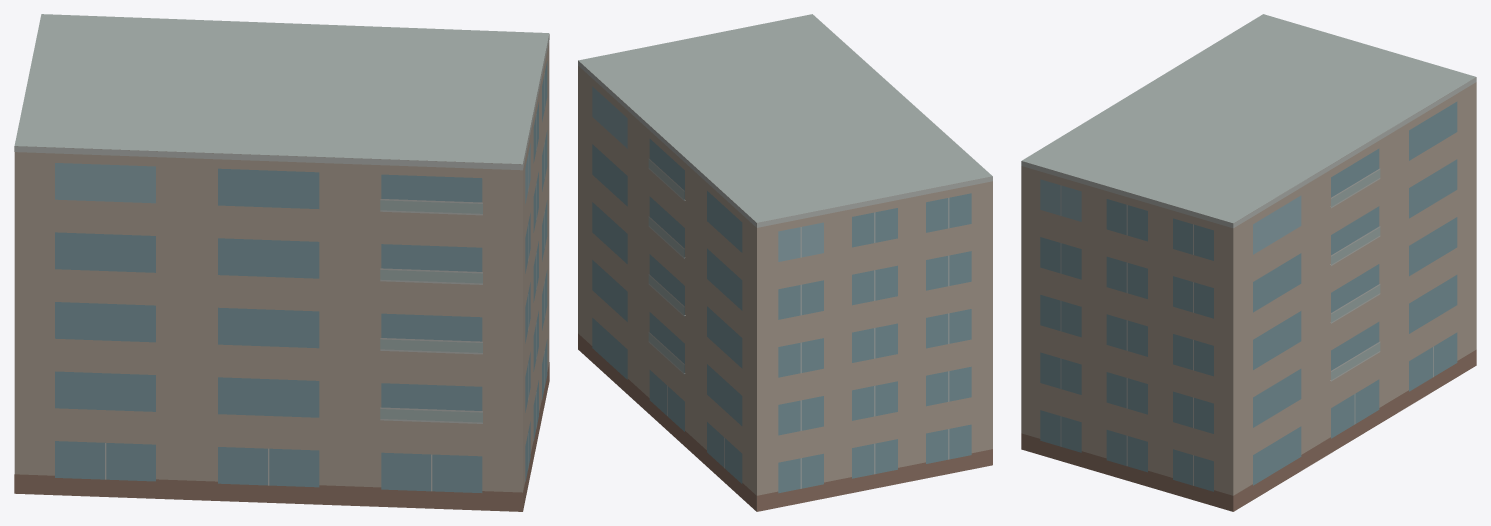
Rendered from survey-upis-32927304.glb.
3 views of the same model, side by side, from view 1: azimuth 30°, elevation 25°; view 2: azimuth 150°, elevation 25°; view 3: azimuth 270°, elevation 25° (orthographic). The views are drawn at different scales.
Visible parts, largest first — view 1: survey-upis-32927304.tmp; view 2: survey-upis-32927304.tmp; view 3: survey-upis-32927304.tmp.
Boxes of the visible parts, x1,y1,x2,y2 form: survey-upis-32927304.tmp: [14, 14, 549, 511]; survey-upis-32927304.tmp: [578, 14, 992, 511]; survey-upis-32927304.tmp: [1021, 14, 1476, 511].
Size of the model in its own units: 21.79 by 14 by 20.02.
